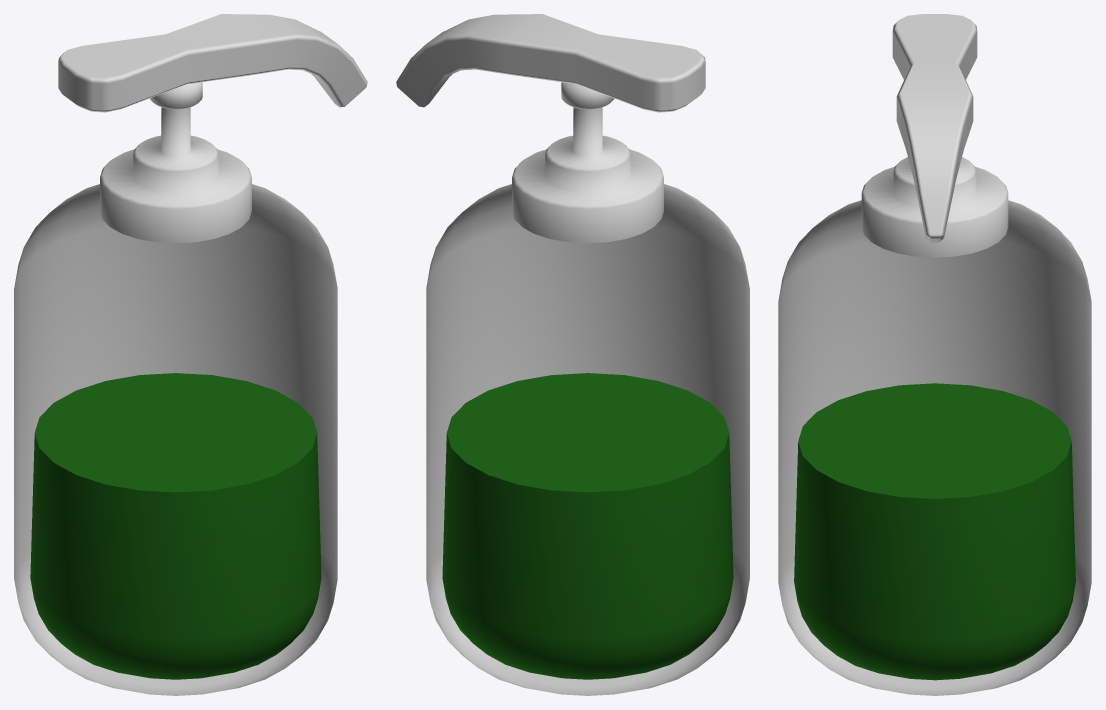
The model's file is Chimichurri.glb.
3 renders of one model, left to right at view 1: azimuth 30°, elevation 25°; view 2: azimuth 150°, elevation 25°; view 3: azimuth 270°, elevation 25°, orthographic. The views are drawn at different scales.
Parts seen in each view (by area): view 1: Chimi; view 2: Chimi; view 3: Chimi.
Boxes of the visible parts, box(x1,y1,x2,y2) form: Chimi: box(14, 14, 367, 695); Chimi: box(396, 14, 749, 695); Chimi: box(778, 14, 1091, 695).
Size of the model in its own units: 0.8907 by 1.59 by 0.7571.
